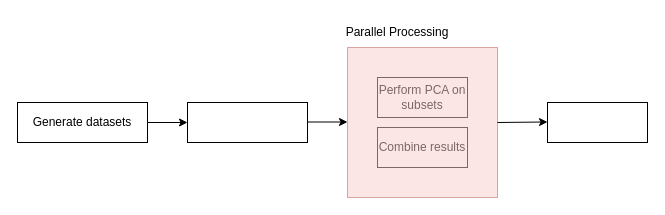
Image size: 665x215. Some labels were removed from this diagram. Each missing label, with the centre of its shape:
Divide datasets into subsets: (x=247, y=122)
Output results: (x=597, y=122)
